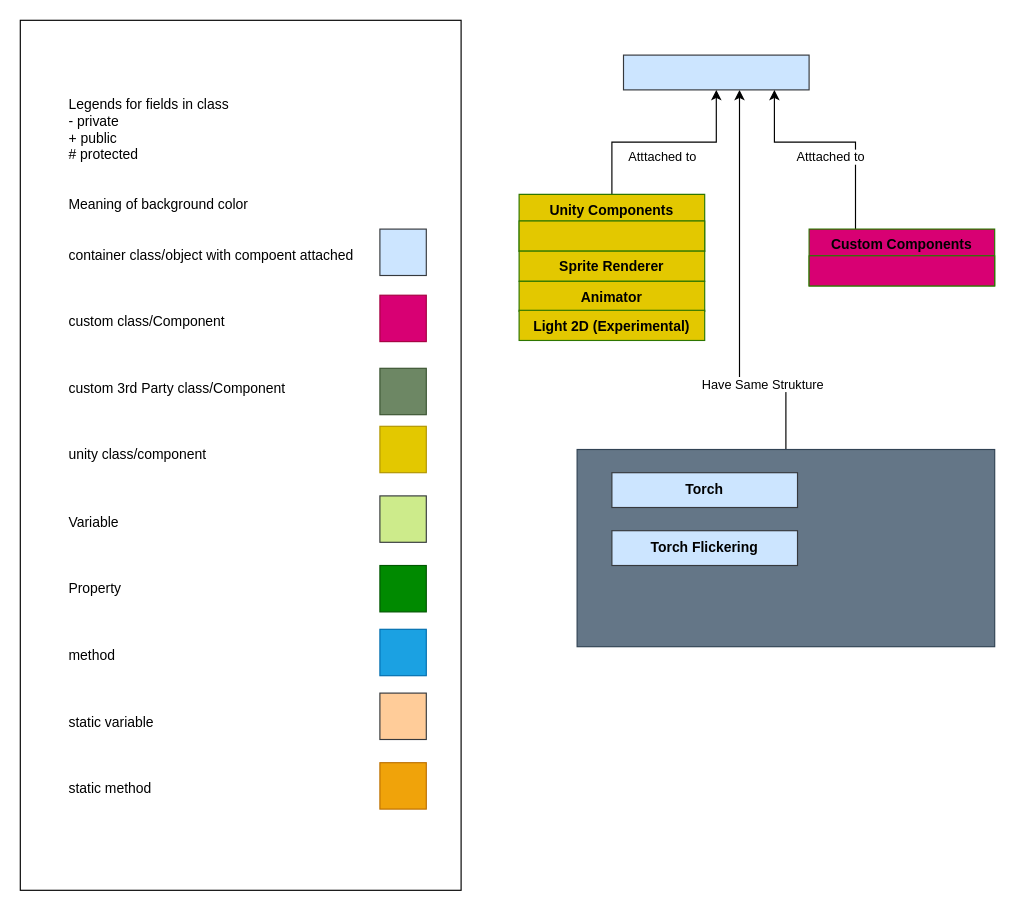
The diagram is 1015 pixels wide and 920 high, and some of its shapes have lost their labels. The centre of each missing label's shape, as x and y in pixels:
Position Renderer Sorter: the point at 901,270
Prefab: the point at 715,72
Transfrom: the point at 611,235
